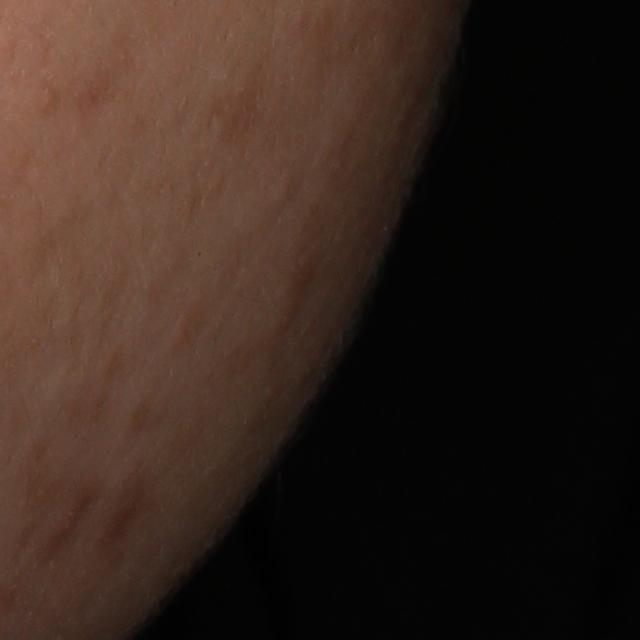comedo: (39, 87, 57, 109)
